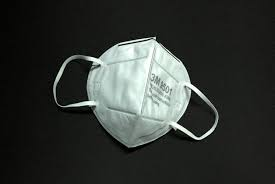mask: (60, 39, 211, 133)
